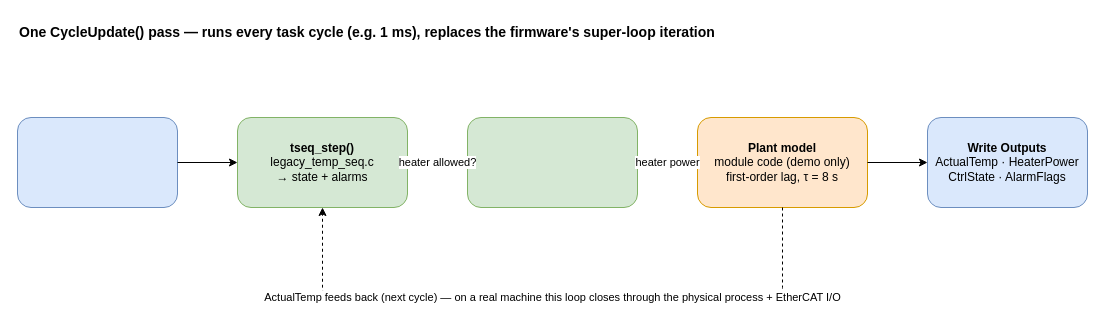
The diagram is 1105 pixels wide and 323 high, and some of its shapes have lost their labels. The shapes that lost their labels are listed below. From the top down, each one's centre as x and y in pixels, then its label:
pixel 97 162: Read Inputs SetpointTemp Enable · FaultReset
pixel 552 162: pid_step() legacy_pid.c → power 0–100 % (RAMP / TRACK only)
